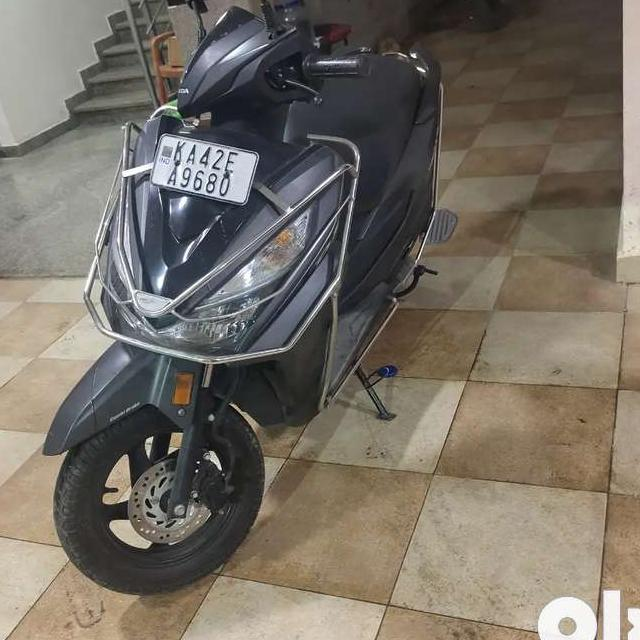Indian_Number_Plate: (152, 133, 260, 205)
